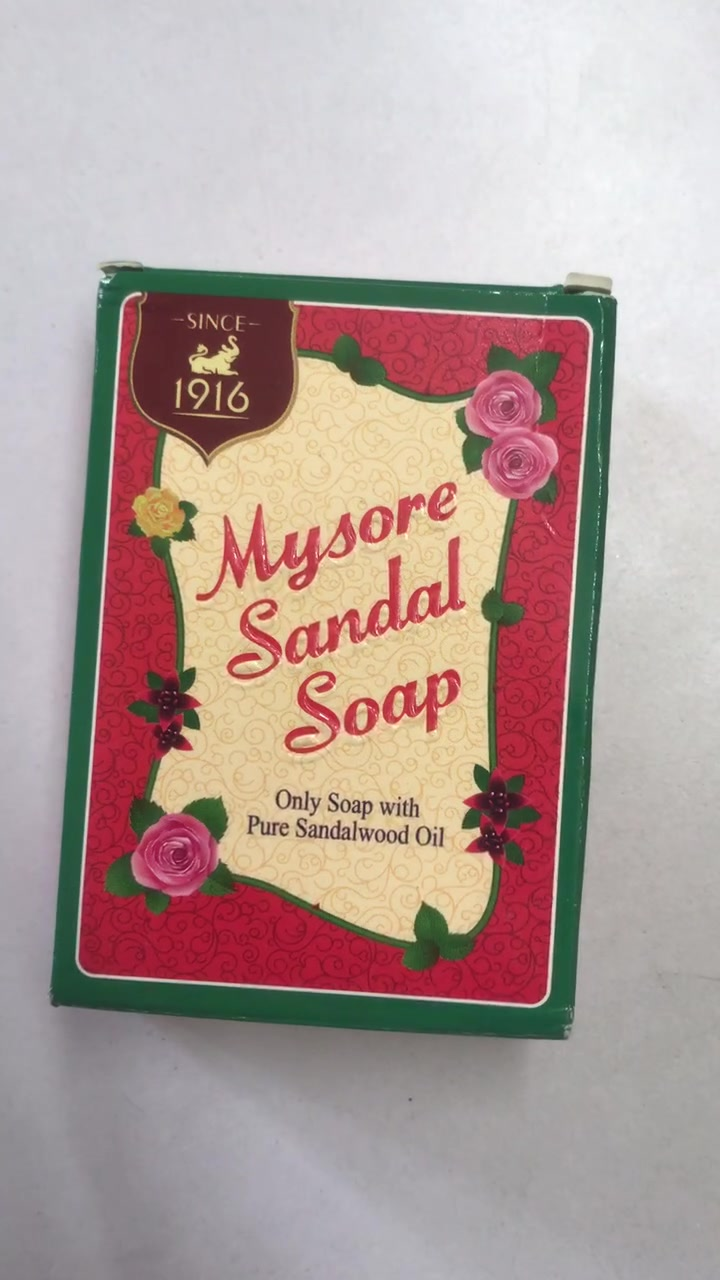mysore sandal soap: (49, 263, 613, 1038)
